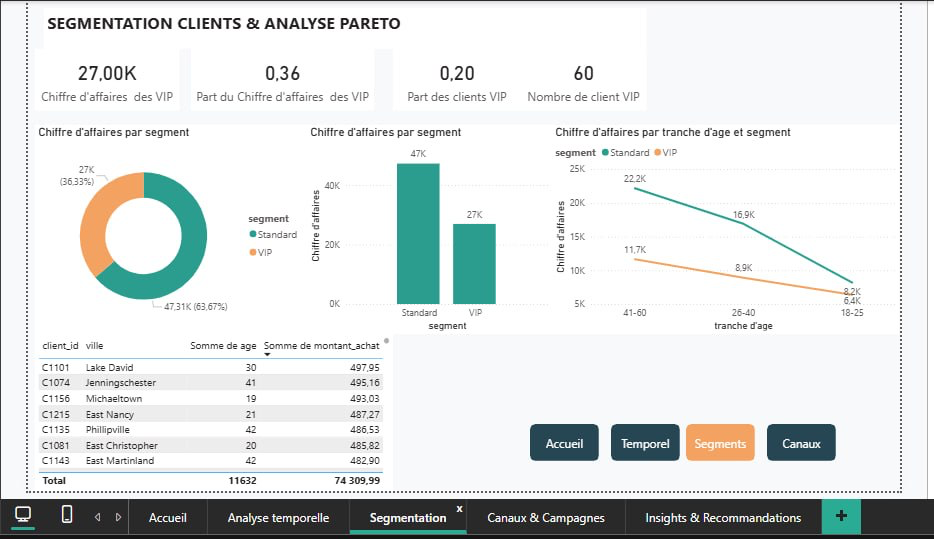

The page's visual inventory and layout, read from the dashboard file:
{"tool":"powerbi","page":{"name":"Segmentation","canvas":[1280,720],"ordinal":2},"visuals":[{"type":"shape","box":[737.6,621.6,101.4,54.4],"z":0},{"type":"shape","box":[856.7,621.6,101.4,54.4],"z":1},{"type":"shape","box":[966.9,621.6,101.4,54.4],"z":2},{"type":"shape","box":[1085.9,621.6,101.4,54.4],"z":3},{"type":"card","fields":{"Values":["Sheet1.CA_VIP"]},"box":[10.3,70.5,211.6,89.6],"z":4},{"type":"card","fields":{"Values":["Sheet1.Nb_VIP"]},"box":[724.4,70.5,183.7,89.6],"z":5},{"type":"card","fields":{"Values":["Sheet1.Part_CA_VIP"]},"box":[239.5,70.5,268.9,89.6],"z":6},{"type":"card","fields":{"Values":["Sheet1.Part_clients_VIP"]},"box":[536.3,70.5,188.1,89.6],"z":7},{"type":"textbox","box":[23.5,10.3,884.6,60.2],"z":8},{"type":"donutChart","fields":{"Category":["Sheet1.segment"],"Y":["Sheet1.CA_Total"]},"box":[10.3,182.2,399.7,307.1],"z":9},{"type":"clusteredColumnChart","fields":{"Category":["Sheet1.segment"],"Y":["Sheet1.CA_Total"]},"box":[410,182.2,360,307.1],"z":10},{"type":"lineChart","fields":{"Category":["Sheet1.tranche_age"],"Y":["Sheet1.CA_Total"],"Series":["Sheet1.segment"]},"box":[770,182.2,509.9,307.1],"z":11},{"type":"tableEx","fields":{"Values":["Sheet1.client_id","Sheet1.ville","Sum(Sheet1.age)","Sum(Sheet1.montant_achat)"]},"box":[10.3,489.3,526,230.7],"z":12}]}

Visuals, with their boxes on the page's 1280x720 design canvas (x1, y1, x2, y2). These are canvas units, not pixel positions in the 934x539 screenshot, which may show the page scaled, cropped or inside an application window:
shape: region(738, 622, 839, 676)
shape: region(857, 622, 958, 676)
shape: region(967, 622, 1068, 676)
shape: region(1086, 622, 1187, 676)
card - Sheet1.CA_VIP: region(10, 70, 222, 160)
card - Sheet1.Nb_VIP: region(724, 70, 908, 160)
card - Sheet1.Part_CA_VIP: region(240, 70, 508, 160)
card - Sheet1.Part_clients_VIP: region(536, 70, 724, 160)
textbox: region(24, 10, 908, 70)
donutChart - Sheet1.segment x Sheet1.CA_Total: region(10, 182, 410, 489)
clusteredColumnChart - Sheet1.segment x Sheet1.CA_Total: region(410, 182, 770, 489)
lineChart - Sheet1.tranche_age x Sheet1.CA_Total: region(770, 182, 1280, 489)
tableEx - Sheet1.client_id x Sheet1.ville: region(10, 489, 536, 720)
